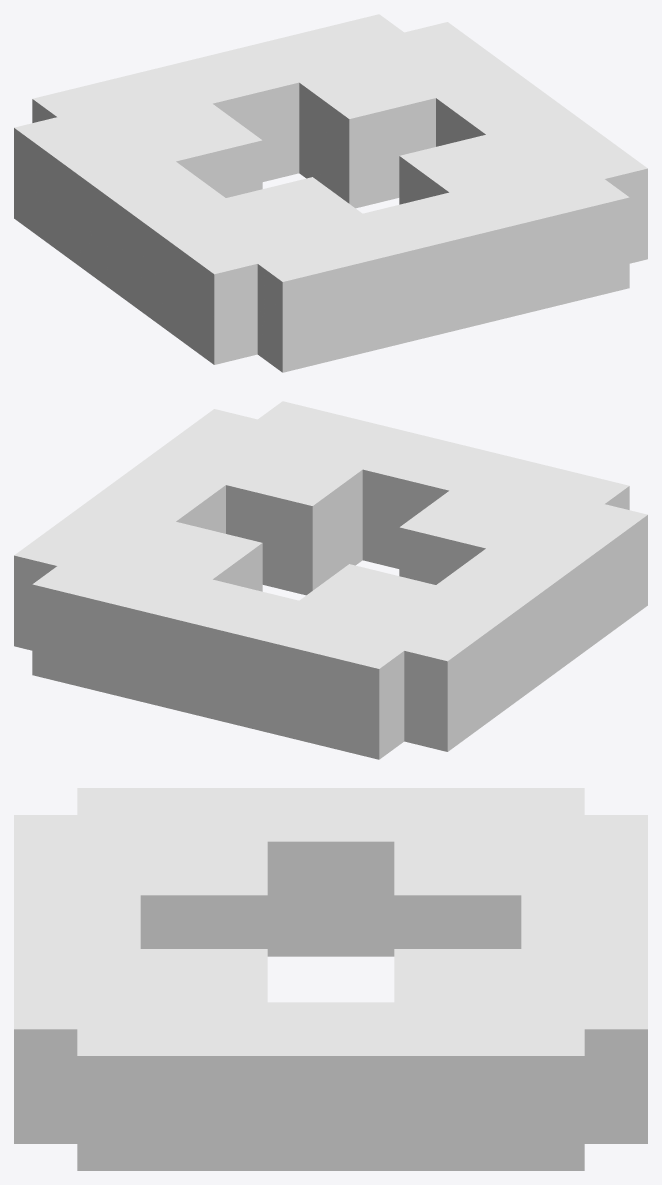
Rendered from tile_plus.obj.
3 views of the same model, one above another, from view 1: azimuth 30°, elevation 25°; view 2: azimuth 150°, elevation 25°; view 3: azimuth 270°, elevation 25° (orthographic). The views are drawn at different scales.
Size of the model in its own units: 1 by 0.2 by 1.
Materials: 1 (1 with a texture image).
